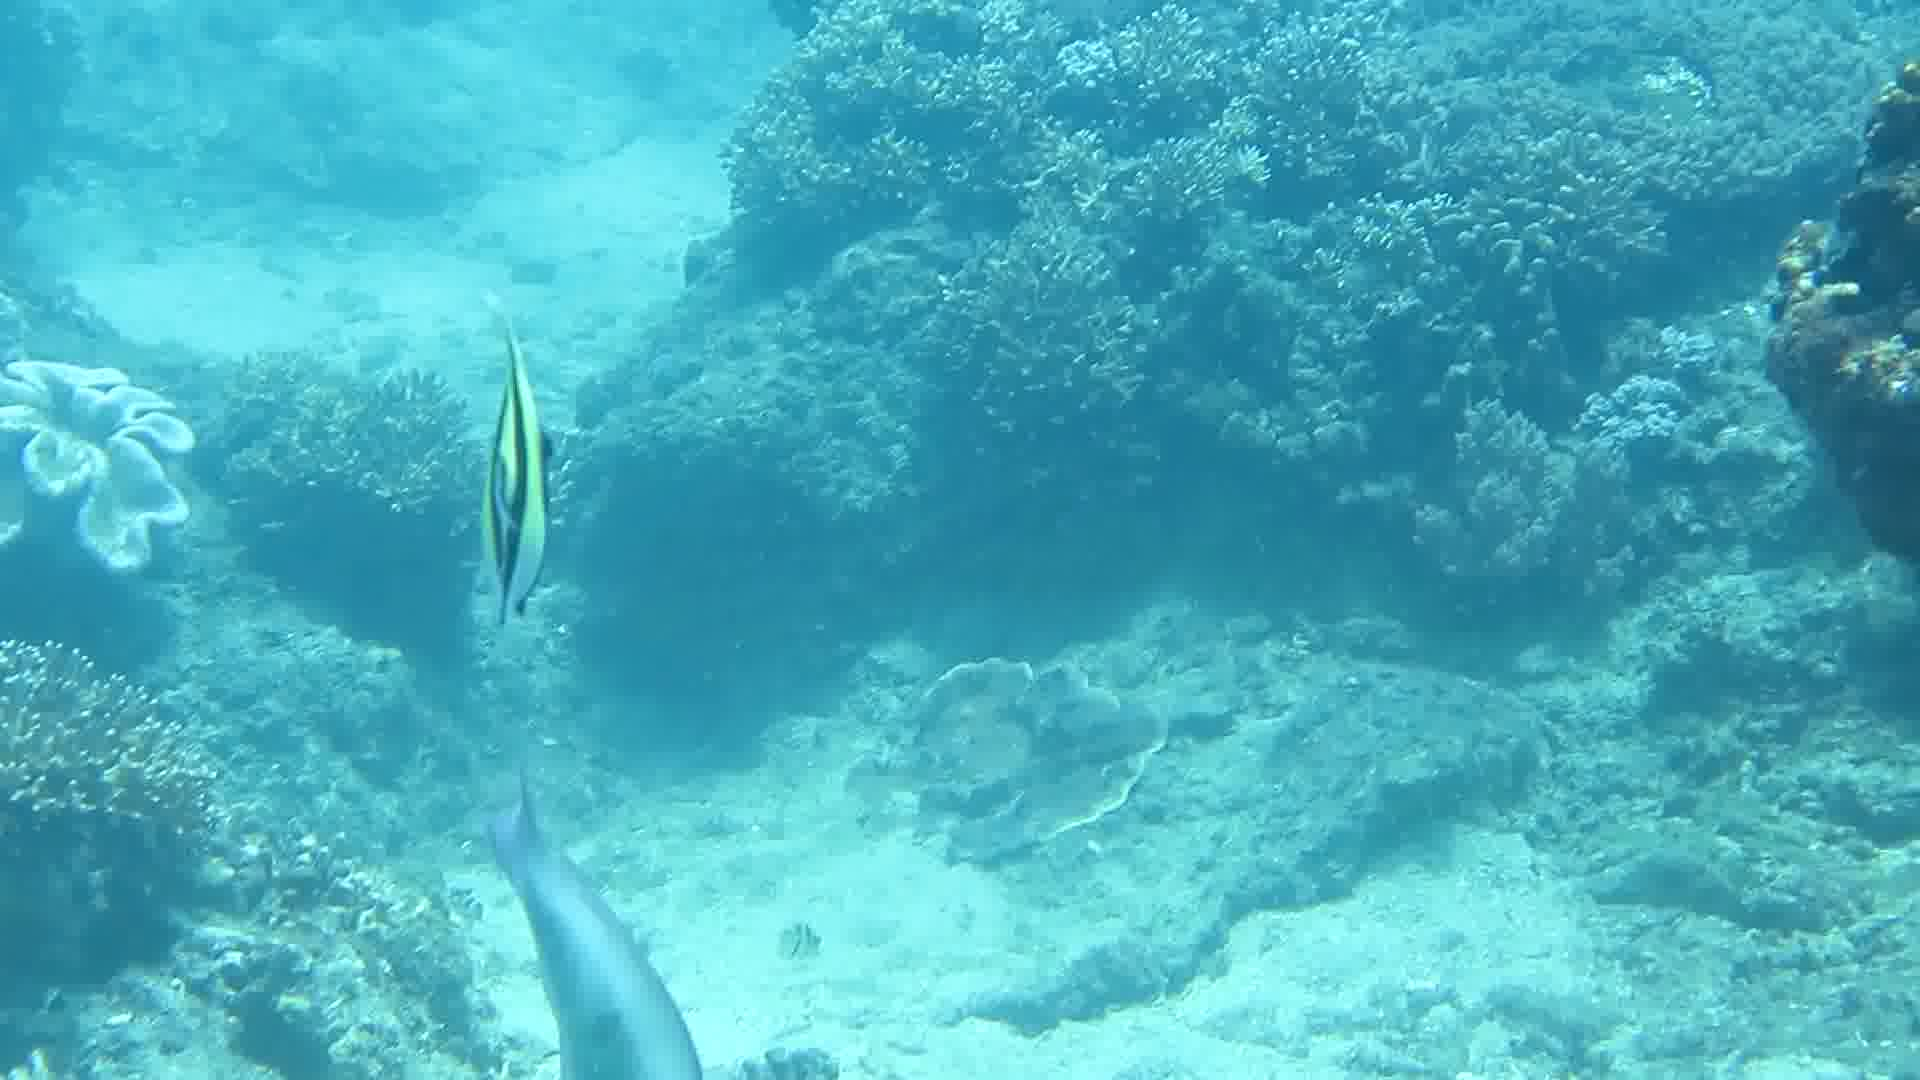Zanclus cornutus: (425, 309, 651, 666)
